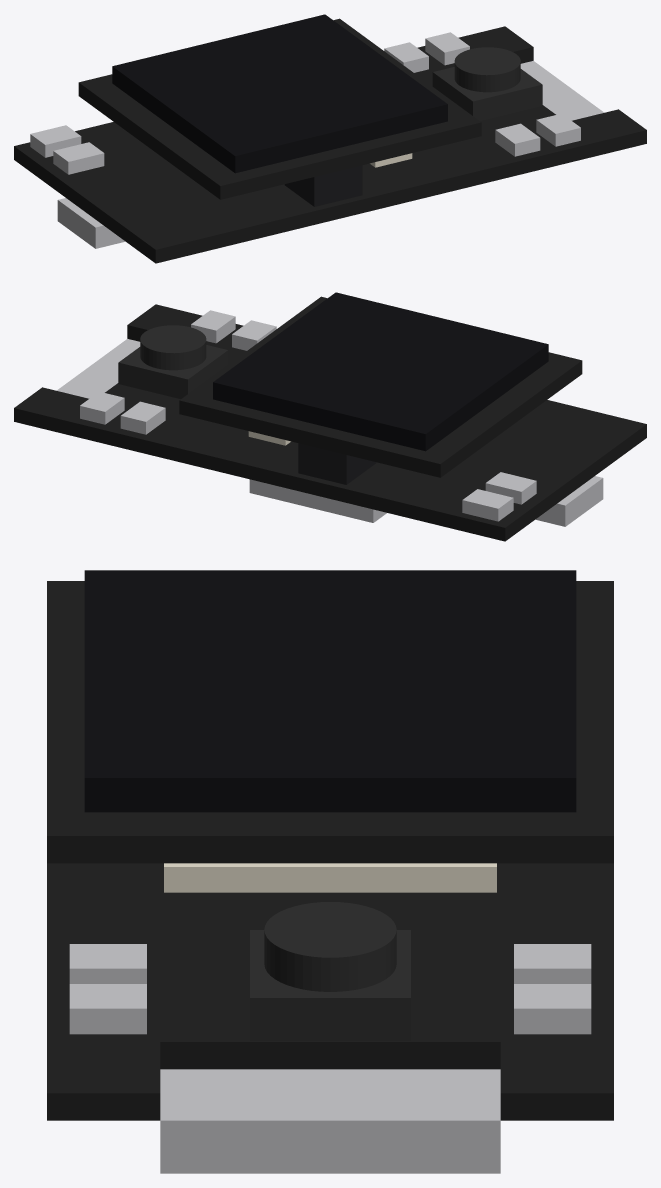
The model's file is espressif-esp32-s3-eye.glb.
3 views of the same model, one above another, from view 1: azimuth 30°, elevation 25°; view 2: azimuth 150°, elevation 25°; view 3: azimuth 270°, elevation 25° (orthographic). The views are drawn at different scales.
Parts seen in each view (by area): view 1: espressif-esp32-s3-eye; view 2: espressif-esp32-s3-eye; view 3: espressif-esp32-s3-eye.
Boxes of the visible parts, x1,y1,x2,y2 form: espressif-esp32-s3-eye: (14,14,646,263); espressif-esp32-s3-eye: (14,292,646,541); espressif-esp32-s3-eye: (47,570,613,1173).
Size of the model in its own units: 61 by 12.3 by 30.
